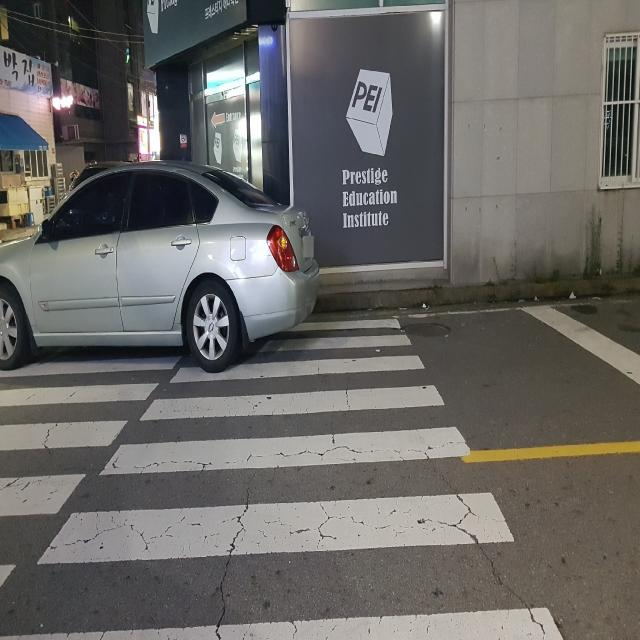횡단보도: (1, 309, 567, 638)
